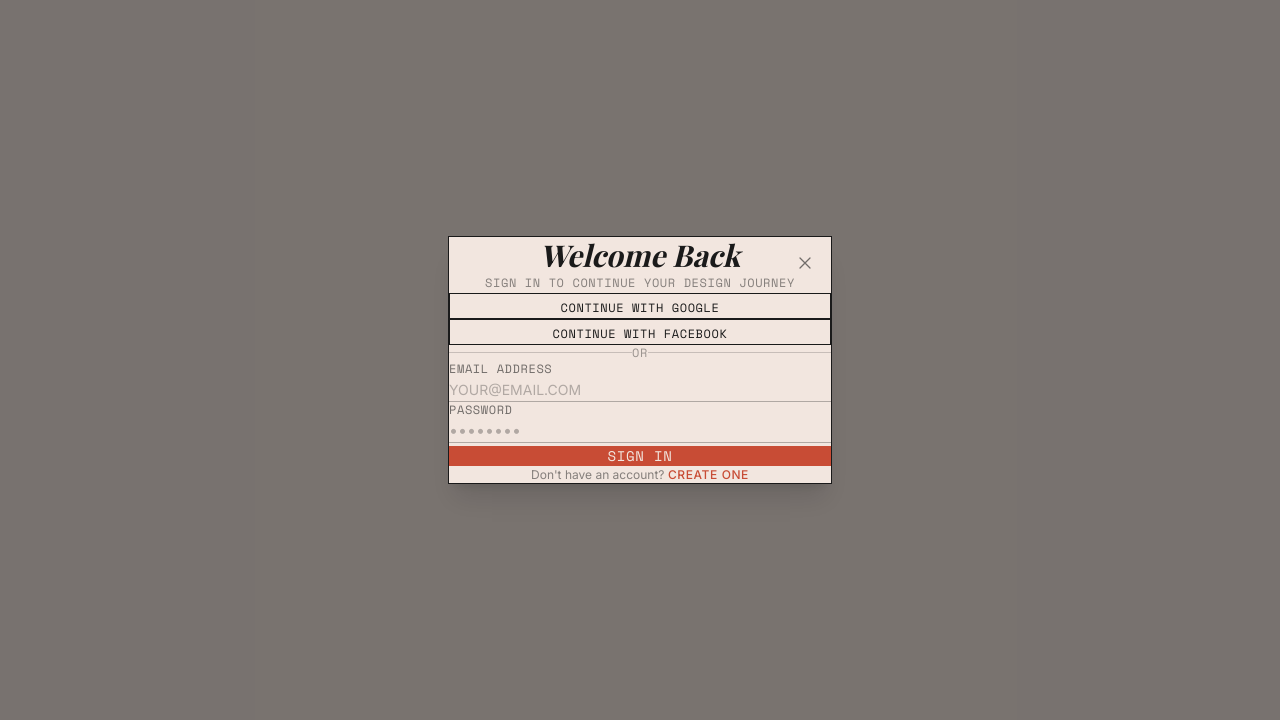
AuthModal › should validate password length
Type "test@example.com" into the field labelled "Email Address". click: (640, 389)
box: left=449, top=377, right=831, bottom=402
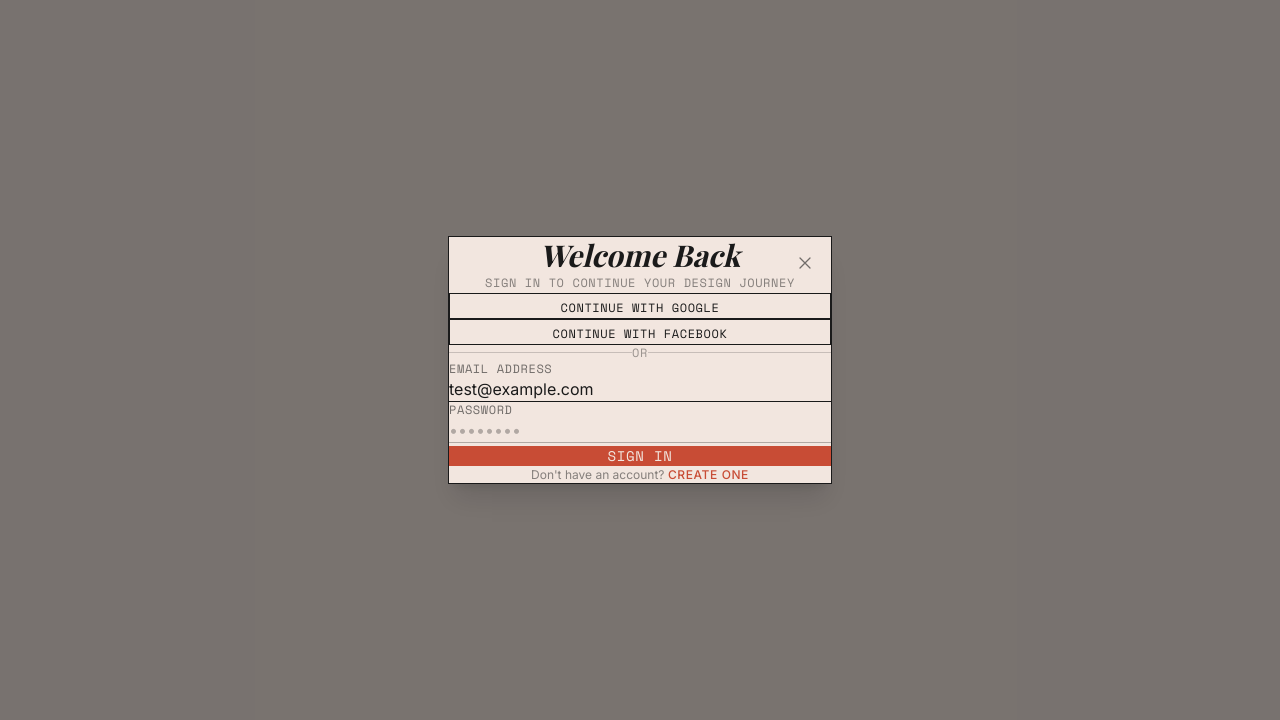
Type "123" into the password field labelled "Password". click: (640, 430)
box: left=449, top=418, right=831, bottom=443
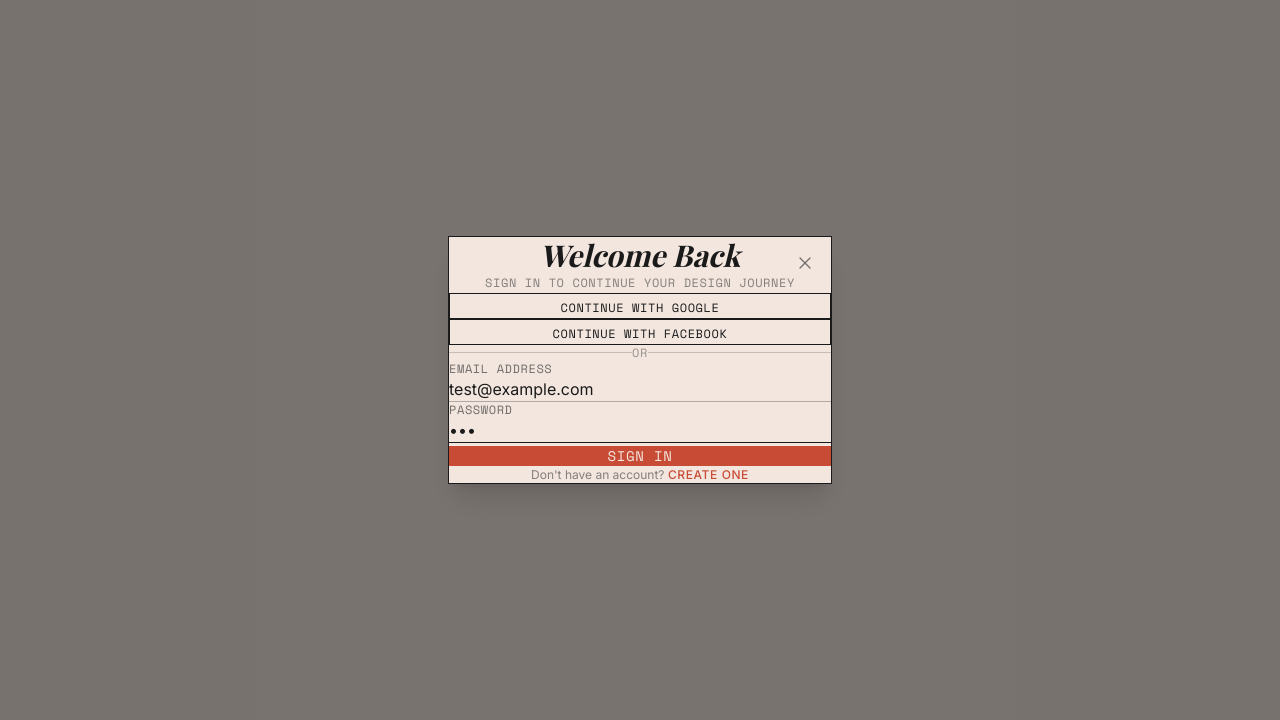
Click the button "Sign In". click: (640, 456)
box: left=449, top=446, right=831, bottom=466
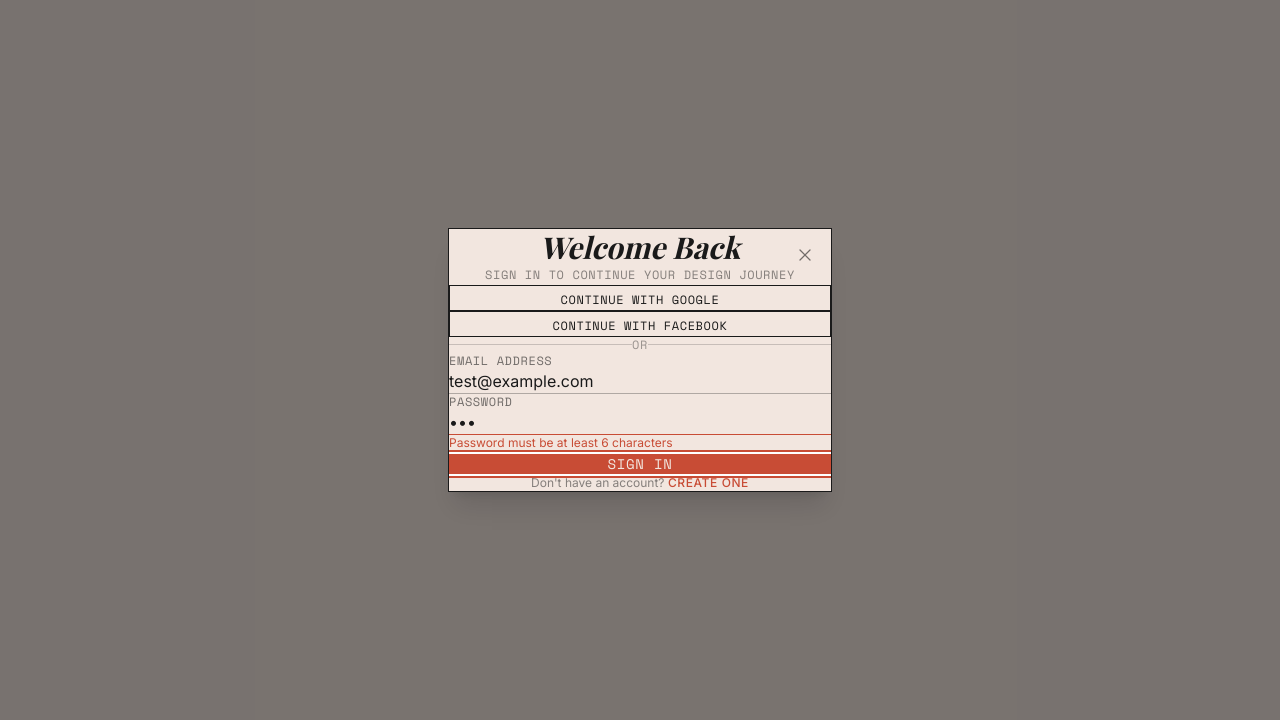
Expected: the text "Password must be at least 6 characters" is shown, left=449, top=435, right=673, bottom=450
